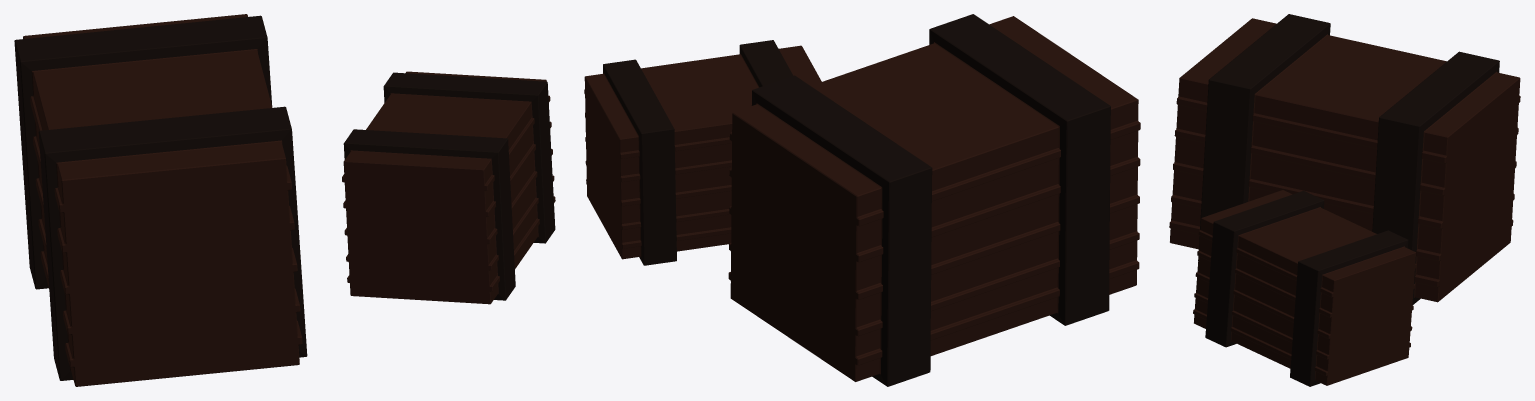
Rendered from caisses.FBX.
The picture shows the model from 3 angles, left to right: view 1: azimuth 30°, elevation 25°; view 2: azimuth 150°, elevation 25°; view 3: azimuth 270°, elevation 25°; orthographic projection. The views are drawn at different scales.
Parts seen in each view (by area): view 1: Box138; view 2: Box138; view 3: Box138.
Boxes of the visible parts, x1,y1,x2,y2 form: Box138: (14,14,555,386); Box138: (584,14,1140,386); Box138: (1169,14,1520,386).
Size of the model in its own units: 134 by 94.29 by 58.2.
